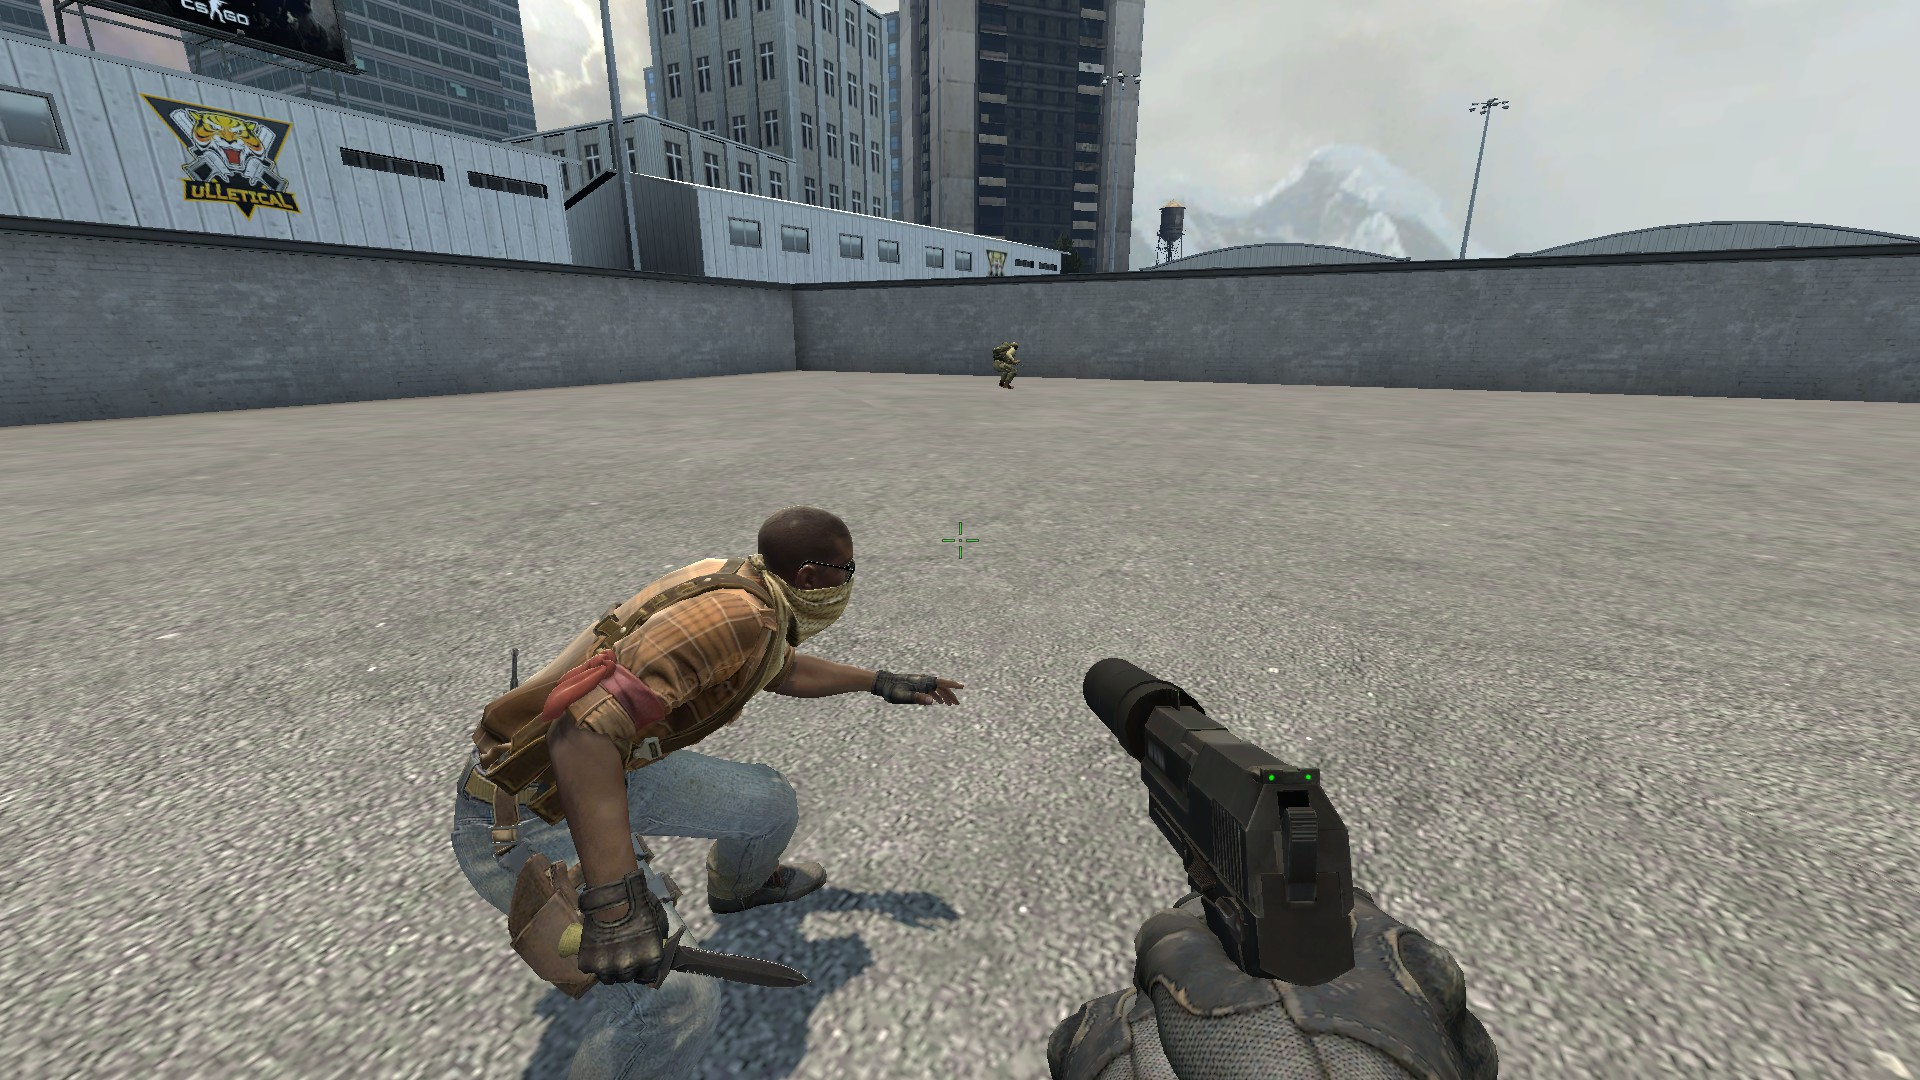tr: (445, 498, 969, 1080)
tr head: (754, 500, 857, 648)
